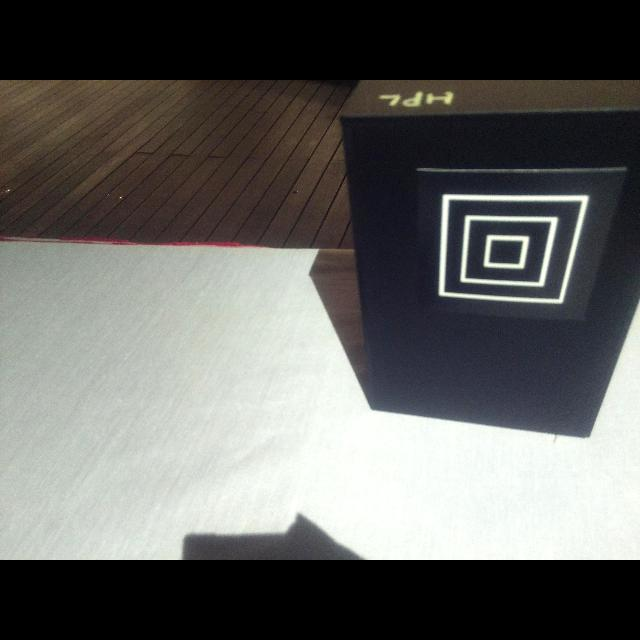BULLSEYE: (439, 194, 589, 304)
